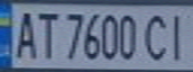0: (118, 10, 142, 62), (100, 10, 121, 61)
6: (81, 10, 103, 61)
7: (60, 8, 84, 61)
A: (9, 7, 39, 60)
C: (139, 10, 172, 61)
I: (163, 9, 193, 62)
T: (33, 8, 60, 60)
